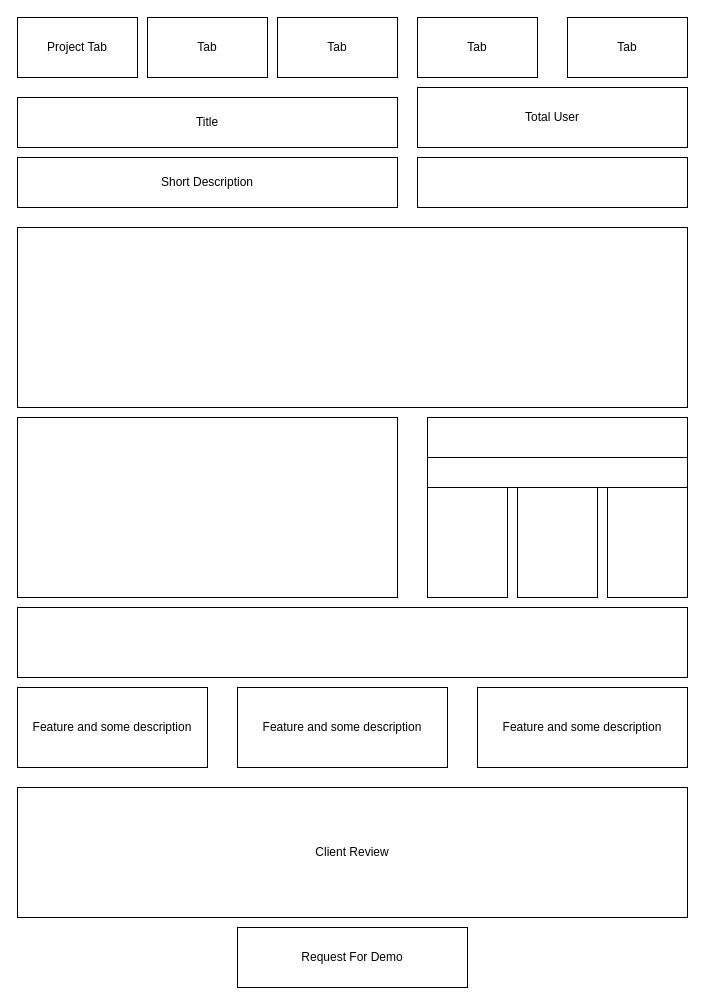
Image size: 705x1005. Some labels were removed from this diagram. Here are the shapes that lost their labels. From the top down, the centre of each, then its label:
At point 552,182: "Ratings".
At point 352,317: "Banner".
At point 557,437: "Project Price".
At point 557,472: "1month 6month 12month".
At point 207,507: "Key Feature".
At point 352,642: "Parallax".
